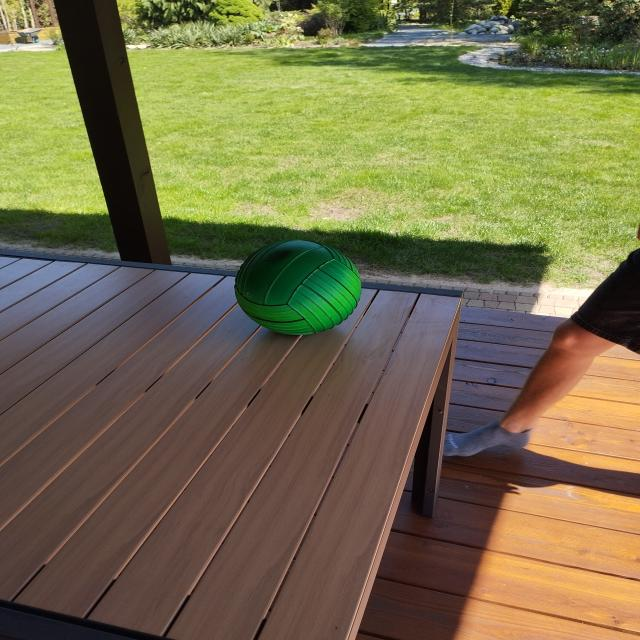zielona: (235, 240, 362, 336)
